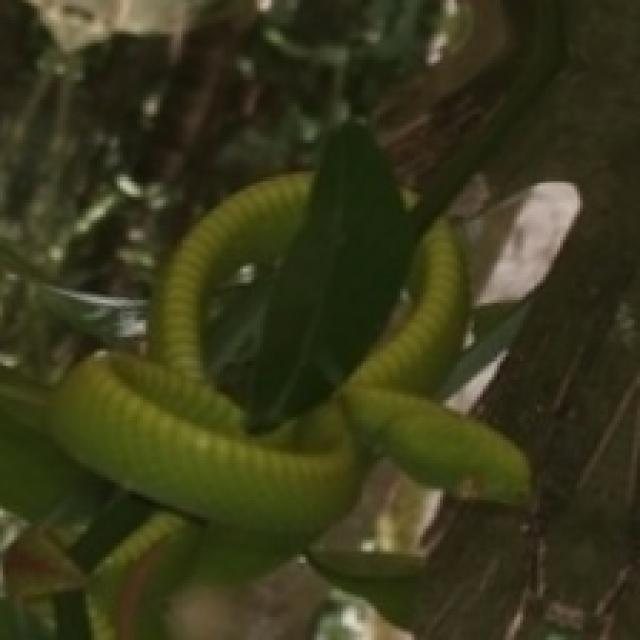north ph temple pitviper: (49, 174, 526, 534)
